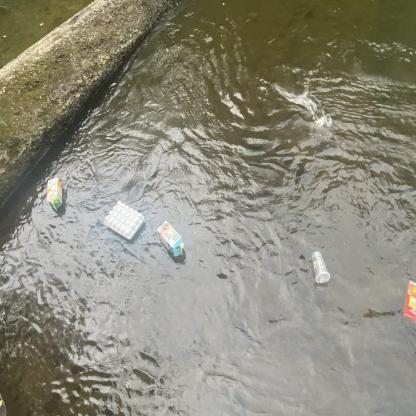trash: (100, 197, 147, 243), (154, 216, 188, 264), (43, 174, 70, 218), (308, 246, 332, 290), (399, 275, 416, 324)
